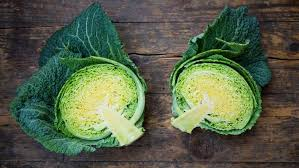cabbage: (165, 51, 266, 137), (51, 64, 149, 152)
